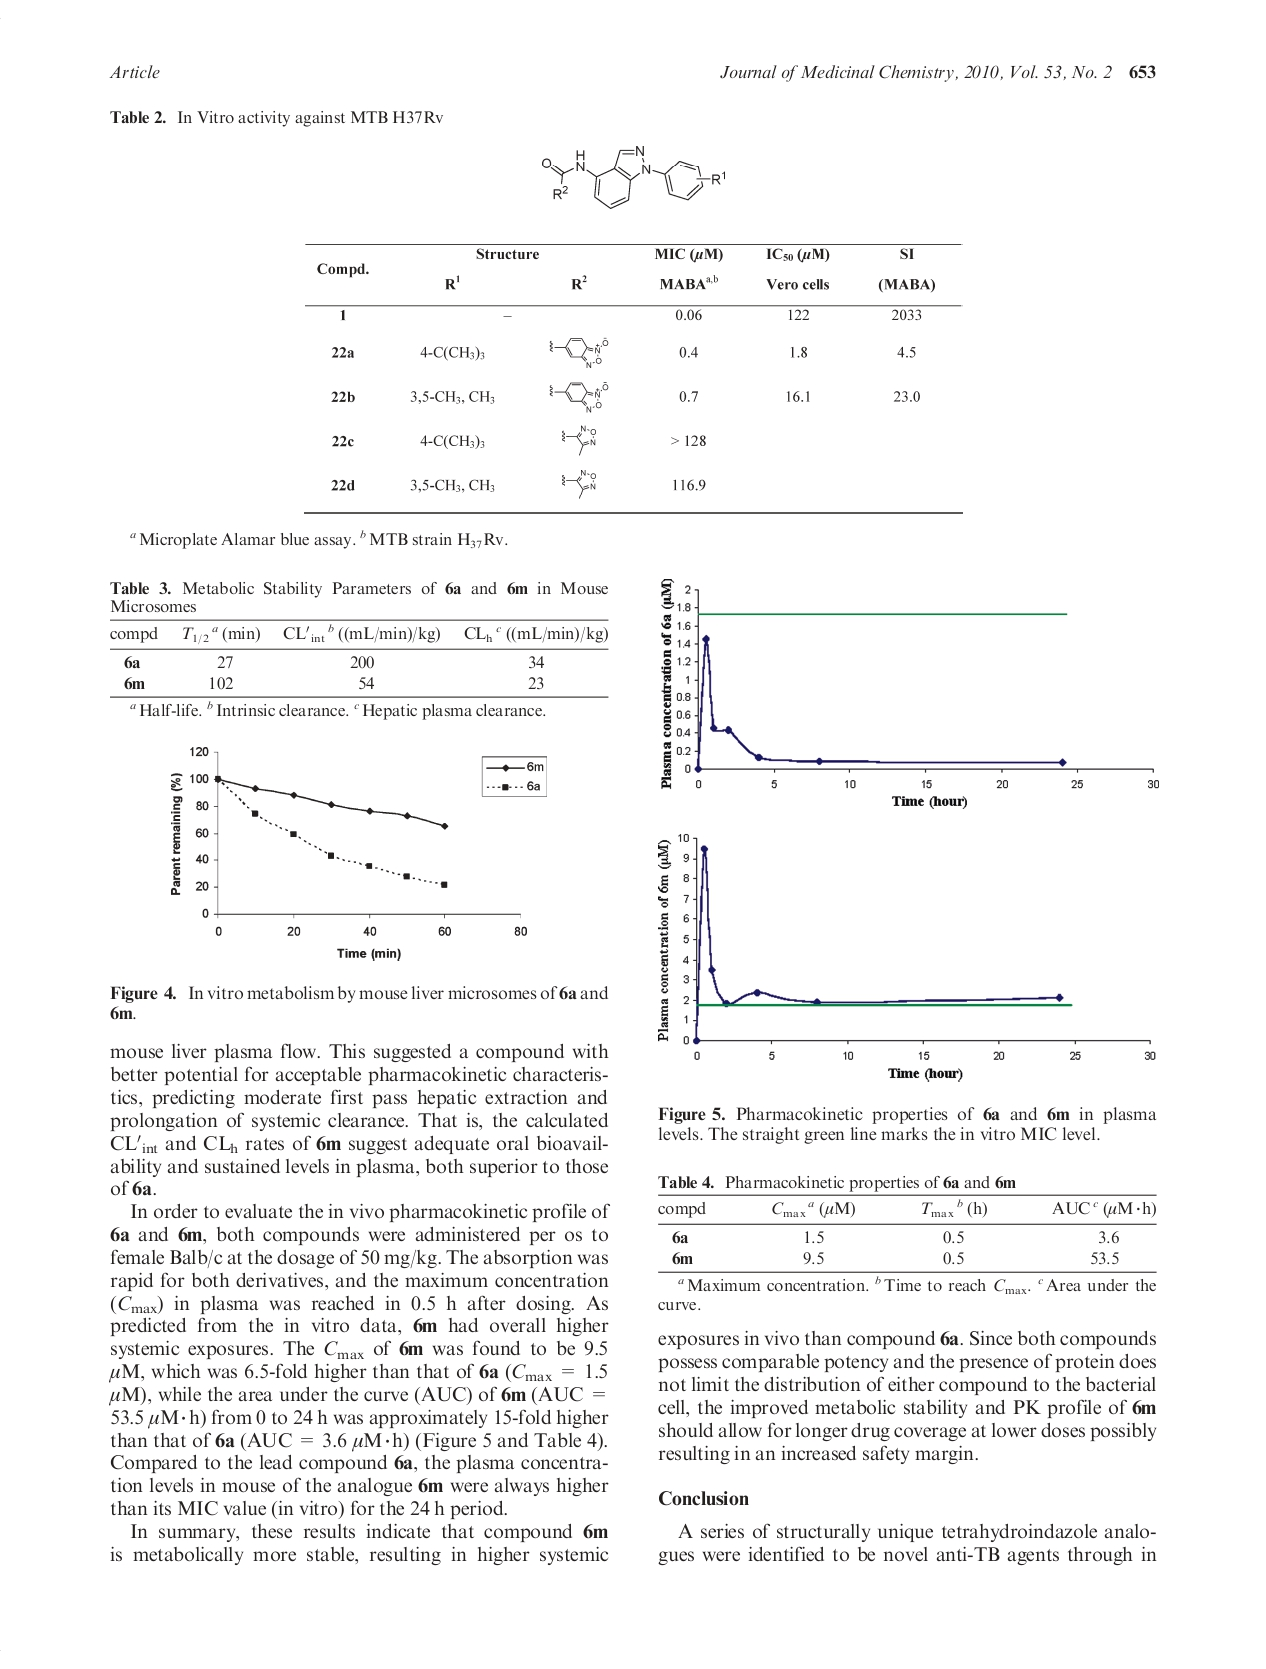exist_molecular: (540, 145, 727, 211), (547, 379, 610, 414), (548, 334, 610, 368), (560, 424, 598, 455), (561, 468, 597, 499)
